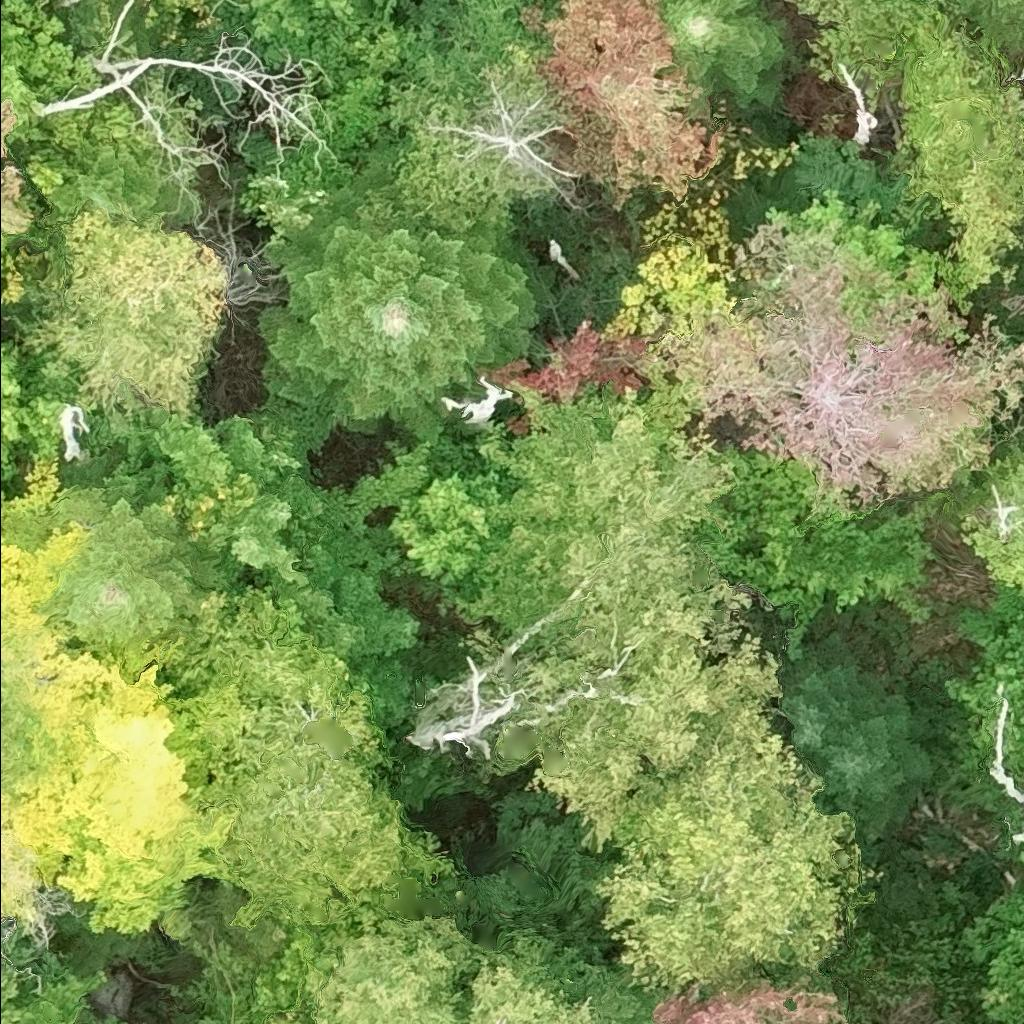crown: (453, 386, 784, 853), (171, 583, 457, 925), (636, 257, 1023, 508), (253, 163, 539, 460), (590, 696, 860, 999), (0, 636, 239, 936), (35, 450, 243, 669), (23, 205, 228, 417), (520, 0, 725, 210), (270, 905, 632, 1023), (897, 8, 1023, 289), (138, 406, 327, 587), (731, 185, 975, 318), (150, 30, 337, 182), (30, 56, 231, 188), (386, 417, 513, 593), (799, 690, 938, 847), (0, 459, 91, 676), (252, 887, 385, 1023), (777, 630, 903, 757), (482, 318, 653, 404), (0, 0, 102, 130), (662, 0, 785, 105), (943, 608, 1023, 762), (45, 142, 179, 222), (652, 973, 850, 1023), (957, 874, 1023, 1023), (20, 355, 82, 467), (0, 788, 45, 925), (0, 968, 110, 1023), (958, 513, 1023, 600), (238, 0, 357, 42), (439, 372, 516, 436), (0, 99, 33, 235), (0, 334, 32, 464), (953, 0, 1023, 53), (0, 688, 29, 791), (992, 446, 1023, 503), (1011, 510, 1023, 520), (1018, 850, 1023, 869), (0, 681, 7, 689)
